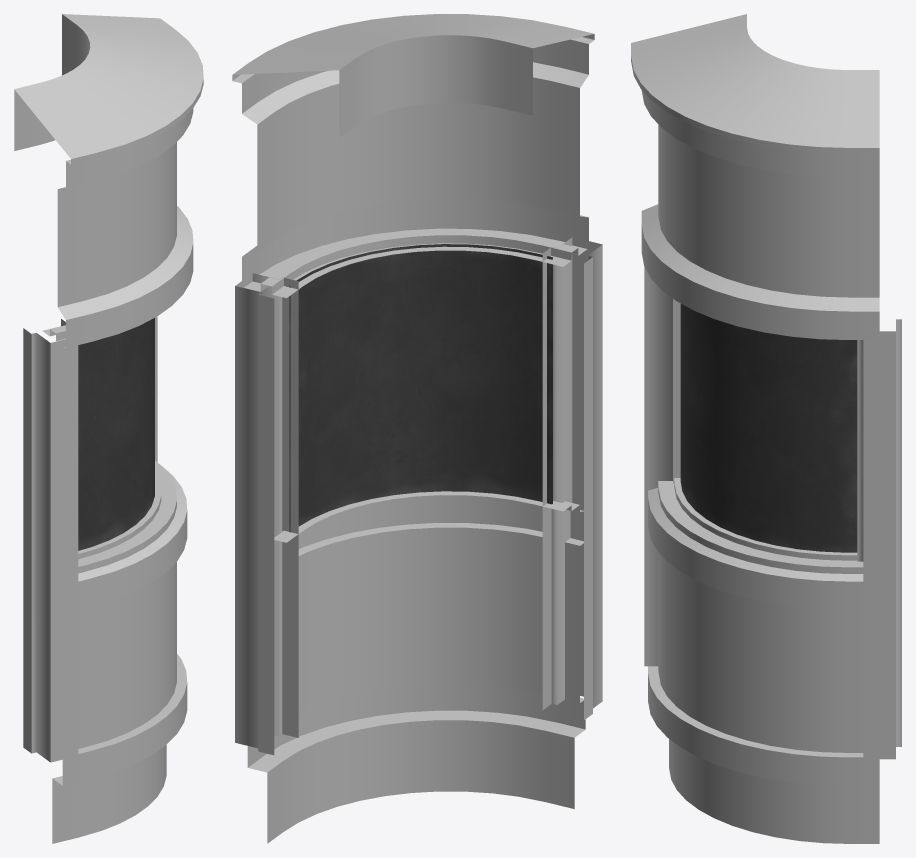
The model's file is Wall_out_corner_window.fbx.
3 views of the same model, side by side, from view 1: azimuth 30°, elevation 25°; view 2: azimuth 150°, elevation 25°; view 3: azimuth 270°, elevation 25° (orthographic). The views are drawn at different scales.
Parts seen in each view (by area): view 1: Wall_out_corner_window, Wall_corner_glass; view 2: Wall_out_corner_window, Wall_corner_glass; view 3: Wall_out_corner_window, Wall_corner_glass.
Boxes of the visible parts, left/top/right/bottom form: Wall_out_corner_window: left=14, top=14, right=203, bottom=843; Wall_corner_glass: left=78, top=318, right=154, bottom=550; Wall_out_corner_window: left=232, top=14, right=602, bottom=843; Wall_corner_glass: left=289, top=244, right=552, bottom=532; Wall_out_corner_window: left=631, top=14, right=901, bottom=843; Wall_corner_glass: left=680, top=304, right=857, bottom=552.
Size of the model in its own units: 129 by 388 by 129.
